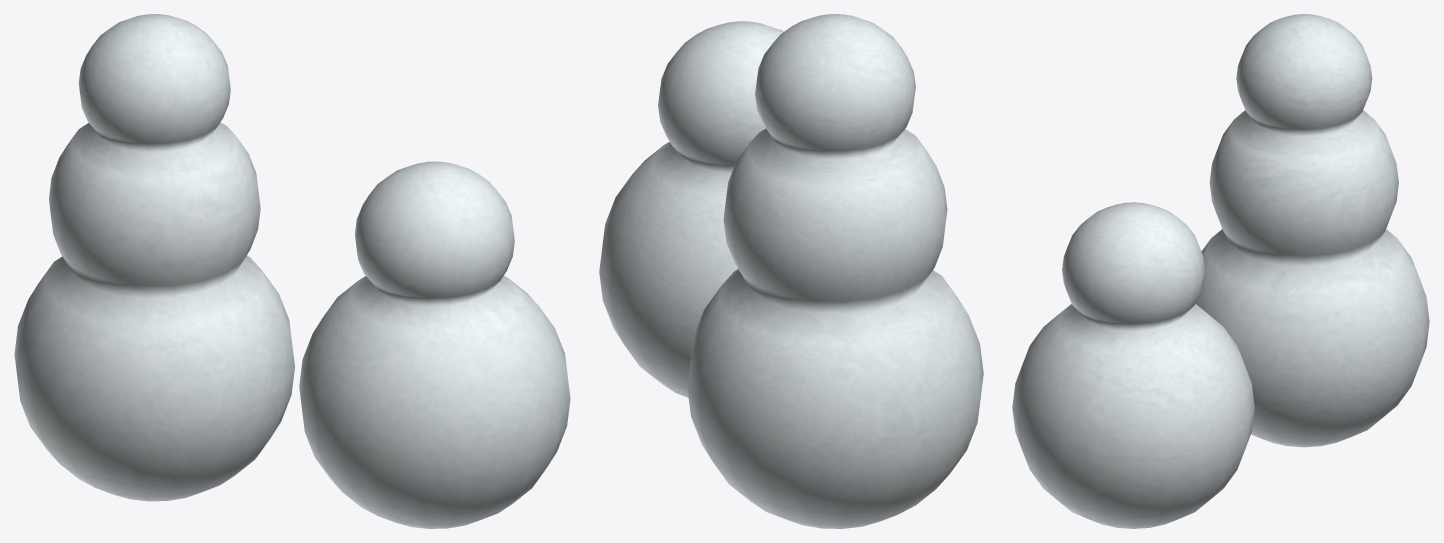
File: ChristmasRoom_SnowMan.fbx
The picture shows the model from 3 angles, left to right: view 1: azimuth 30°, elevation 25°; view 2: azimuth 150°, elevation 25°; view 3: azimuth 270°, elevation 25°; orthographic projection. The views are drawn at different scales.
Visible parts, largest first — view 1: ChristmasRoom_SnowMan; view 2: ChristmasRoom_SnowMan; view 3: ChristmasRoom_SnowMan.
Boxes of the visible parts, x1,y1,x2,y2 form: ChristmasRoom_SnowMan: (14,14,570,528); ChristmasRoom_SnowMan: (599,14,983,528); ChristmasRoom_SnowMan: (1012,14,1429,528).
Size of the model in its own units: 97.16 by 103 by 93.13.
